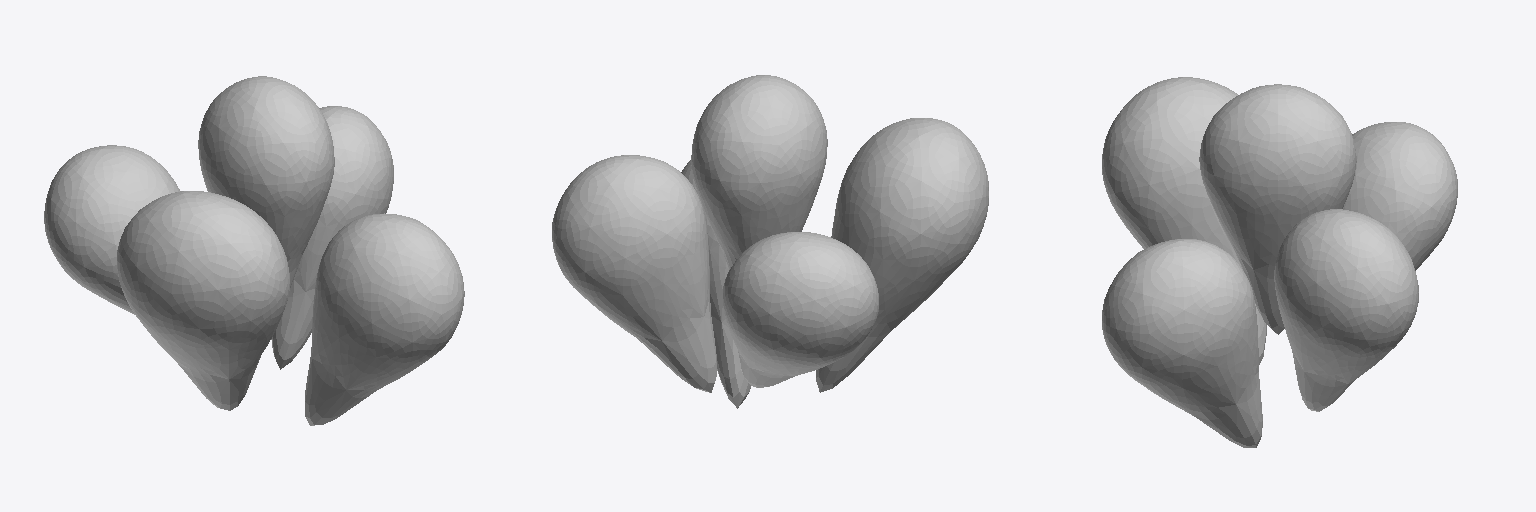
Rendered from spors.obj.
3 renders of one model, left to right at view 1: azimuth 30°, elevation 25°; view 2: azimuth 150°, elevation 25°; view 3: azimuth 270°, elevation 25°, orthographic.
Visible parts, largest first — view 1: Icosphere.001, Icosphere.002, Icosphere.000, Icosphere.003, Icosphere.005_Icosphere.004; view 2: Icosphere.005_Icosphere.004, Icosphere.001, Icosphere.000, Icosphere.003, Icosphere.002; view 3: Icosphere.002, Icosphere.000, Icosphere.005_Icosphere.004, Icosphere.001, Icosphere.003.
Boxes of the visible parts, x1,y1,x2,y2 form: Icosphere.001: [117, 191, 289, 410]; Icosphere.002: [305, 213, 464, 425]; Icosphere.000: [198, 76, 334, 287]; Icosphere.003: [44, 145, 179, 314]; Icosphere.005_Icosphere.004: [271, 106, 393, 369]; Icosphere.005_Icosphere.004: [552, 155, 716, 392]; Icosphere.001: [816, 118, 988, 392]; Icosphere.000: [691, 75, 827, 269]; Icosphere.003: [723, 232, 878, 387]; Icosphere.002: [681, 160, 750, 408]; Icosphere.002: [1102, 239, 1262, 447]; Icosphere.000: [1199, 84, 1356, 334]; Icosphere.005_Icosphere.004: [1274, 209, 1418, 411]; Icosphere.001: [1102, 77, 1266, 364]; Icosphere.003: [1343, 122, 1457, 270].
Bounding box in the file's own units: 1.29 × 1.26 × 1.19.